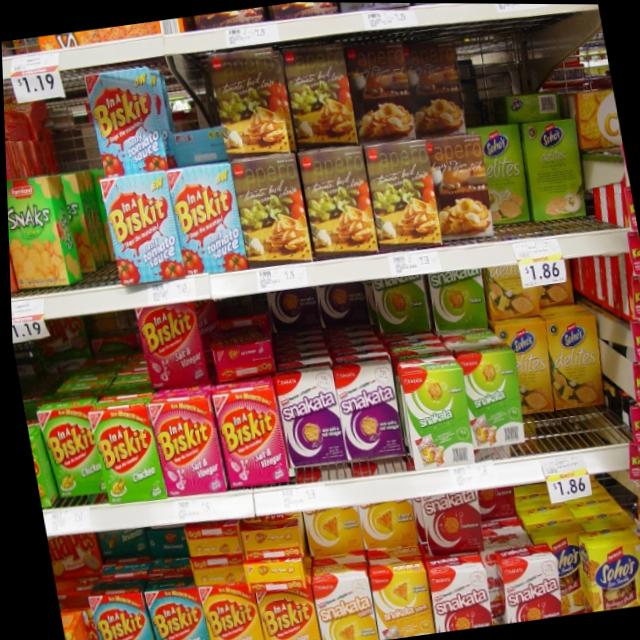q286: (35, 397, 104, 505), (89, 390, 158, 498)
